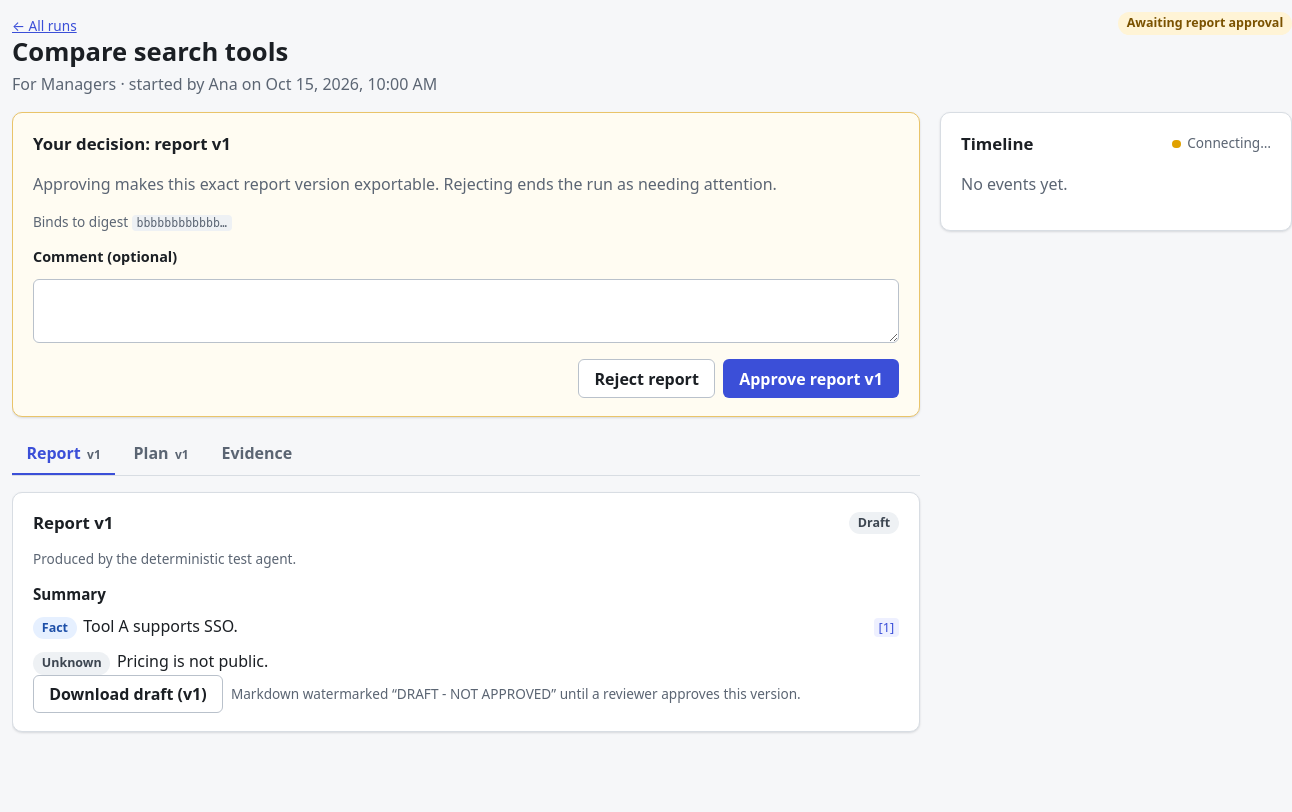
Test case: RunPage › renders claims with kinds and opens cited evidence; unsafe URLs are not linked
The image size is (1292, 812).
Expected: the text "Tool A supports SSO." is shown, left=83, top=615, right=238, bottom=637
Expected: the text "Fact" is shown, left=33, top=617, right=77, bottom=639
Click the button named "Show evidence ev-1".
click(886, 627)  # box left=874, top=618, right=899, bottom=637
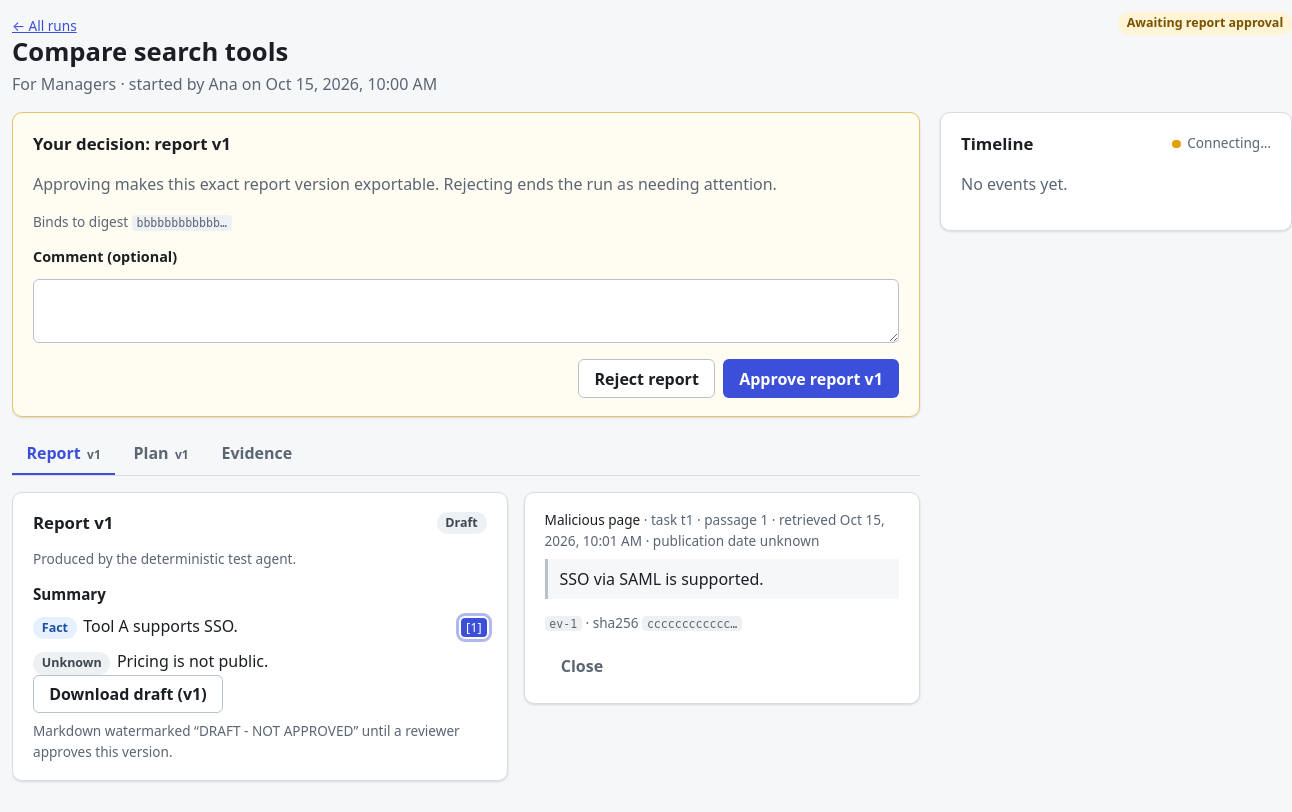
Expected: the text "SSO via SAML is supported." is shown, left=544, top=559, right=899, bottom=599
Expected: the text "publication date unknown" is shown, left=642, top=531, right=819, bottom=550
